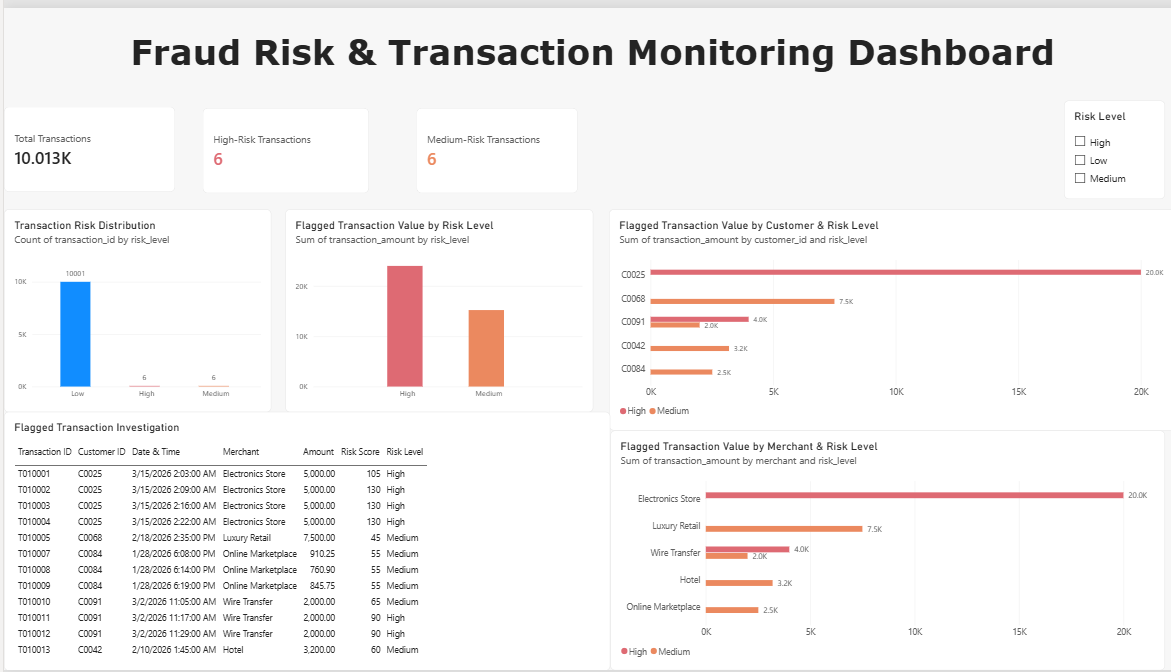

Layout of this report page (visuals, bound fields, positions):
{"tool":"powerbi","page":{"name":"Page 1","canvas":[1920,1080],"ordinal":0},"visuals":[{"type":"cardVisual","fields":{"Data":["CountNonNull(flagged_transactions.transaction_id)"]},"box":[0,160.5,279.9,140],"z":0},{"type":"cardVisual","fields":{"Data":["CountNonNull(flagged_transactions.transaction_id)"]},"box":[324.1,163.1,271.7,140],"z":1000},{"type":"cardVisual","fields":{"Data":["CountNonNull(flagged_transactions.transaction_id)"]},"box":[672.8,163.1,263.5,140],"z":2000},{"type":"clusteredColumnChart","title":"Transaction Risk Distribution","fields":{"Category":["flagged_transactions.risk_level"],"Y":["CountNonNull(flagged_transactions.transaction_id)"]},"box":[0,327.3,436.4,331.4],"z":3000},{"type":"clusteredColumnChart","title":"Flagged Transaction Value by Risk Level","fields":{"Category":["flagged_transactions.risk_level"],"Y":["Sum(flagged_transactions.transaction_amount)"]},"box":[459,327.3,502.2,331.4],"z":4000},{"type":"clusteredBarChart","title":"Flagged Transaction Value by Merchant & Risk Level","fields":{"Category":["flagged_transactions.merchant"],"Series":["flagged_transactions.risk_level"],"Y":["Sum(flagged_transactions.transaction_amount)"]},"box":[988.7,689.1,905.2,391.4],"z":5000},{"type":"clusteredBarChart","title":"Flagged Transaction Value by Customer & Risk Level","fields":{"Category":["flagged_transactions.customer_id"],"Series":["flagged_transactions.risk_level"],"Y":["Sum(flagged_transactions.transaction_amount)"]},"box":[986.7,328.2,933.7,360.8],"z":6000},{"type":"tableEx","title":"Flagged Transaction Investigation","fields":{"Values":["flagged_transactions.transaction_id","flagged_transactions.customer_id","flagged_transactions.transaction_datetime","flagged_transactions.merchant","flagged_transactions.transaction_amount","flagged_transactions.risk_score","flagged_transactions.risk_level"]},"box":[0,658.5,988.7,422],"z":6001},{"type":"textbox","box":[0,0,1920.4,161.1],"z":6002},{"type":"listSlicer","fields":{"Values":["flagged_transactions.risk_level"]},"box":[1728.8,150.9,165.1,161.1],"z":6003}]}

Visuals, with their boxes in screenshot pixels (x1, y1, x2, y2), scaled from the page's 1920x1080 canvas onto the 1171x672 screenshot:
cardVisual - CountNonNull(flagged_transactions.transaction_id): {"x1": 0, "y1": 100, "x2": 171, "y2": 187}
cardVisual - CountNonNull(flagged_transactions.transaction_id): {"x1": 198, "y1": 101, "x2": 363, "y2": 189}
cardVisual - CountNonNull(flagged_transactions.transaction_id): {"x1": 410, "y1": 101, "x2": 571, "y2": 189}
"Transaction Risk Distribution" clusteredColumnChart: {"x1": 0, "y1": 204, "x2": 266, "y2": 410}
"Flagged Transaction Value by Risk Level" clusteredColumnChart: {"x1": 280, "y1": 204, "x2": 586, "y2": 410}
"Flagged Transaction Value by Merchant & Risk Level" clusteredBarChart: {"x1": 603, "y1": 429, "x2": 1155, "y2": 671}
"Flagged Transaction Value by Customer & Risk Level" clusteredBarChart: {"x1": 602, "y1": 204, "x2": 1170, "y2": 429}
"Flagged Transaction Investigation" tableEx: {"x1": 0, "y1": 410, "x2": 603, "y2": 671}
textbox: {"x1": 0, "y1": 0, "x2": 1170, "y2": 100}
listSlicer - flagged_transactions.risk_level: {"x1": 1054, "y1": 94, "x2": 1155, "y2": 194}
